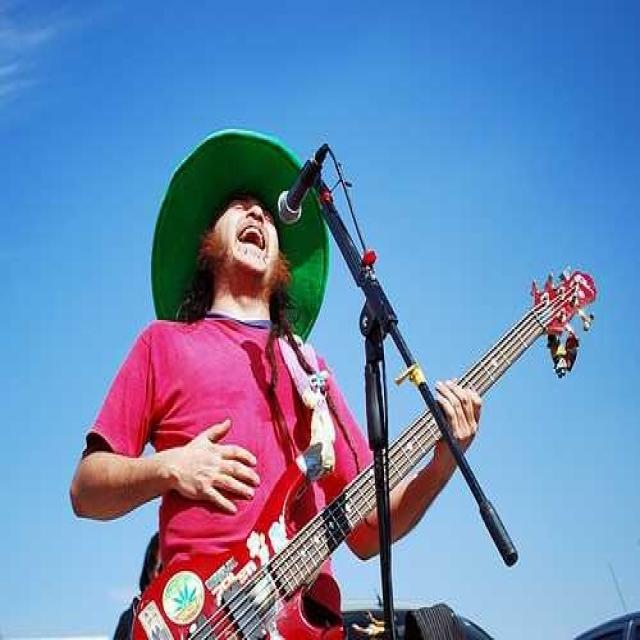microphone: (275, 144, 326, 228)
